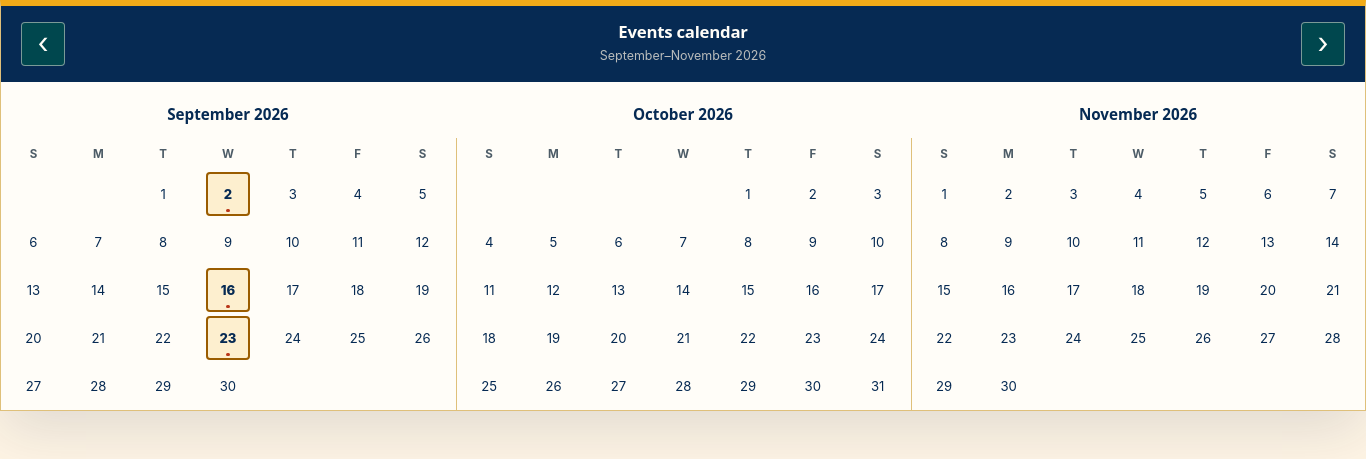
Scenario: public events experience › navigates the three-month calendar window
Expected: the table "September 2026" is shown, x1=1 y1=82 x2=455 y2=410
Expected: the table "November 2026" is shown, x1=911 y1=82 x2=1365 y2=410
Click the button named "Show next month": (1323, 44) x1=1301 y1=22 x2=1345 y2=66
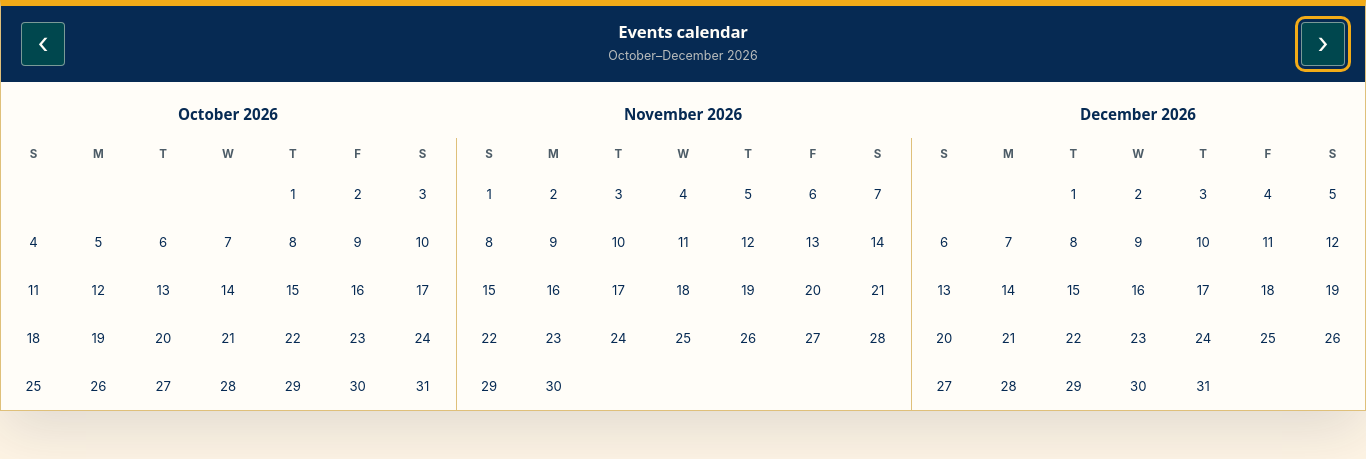
Expected: the text "September 2026" is gone
Expected: the table "December 2026" is shown, x1=911 y1=82 x2=1365 y2=410
